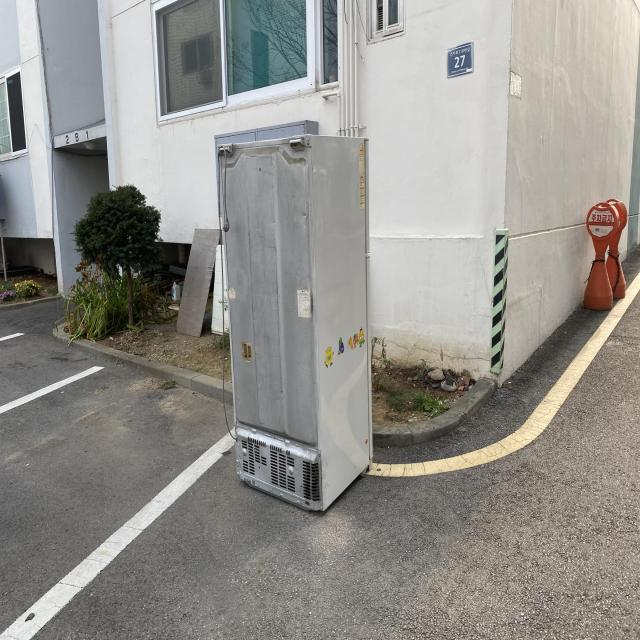refrigerator: (216, 132, 376, 518)
